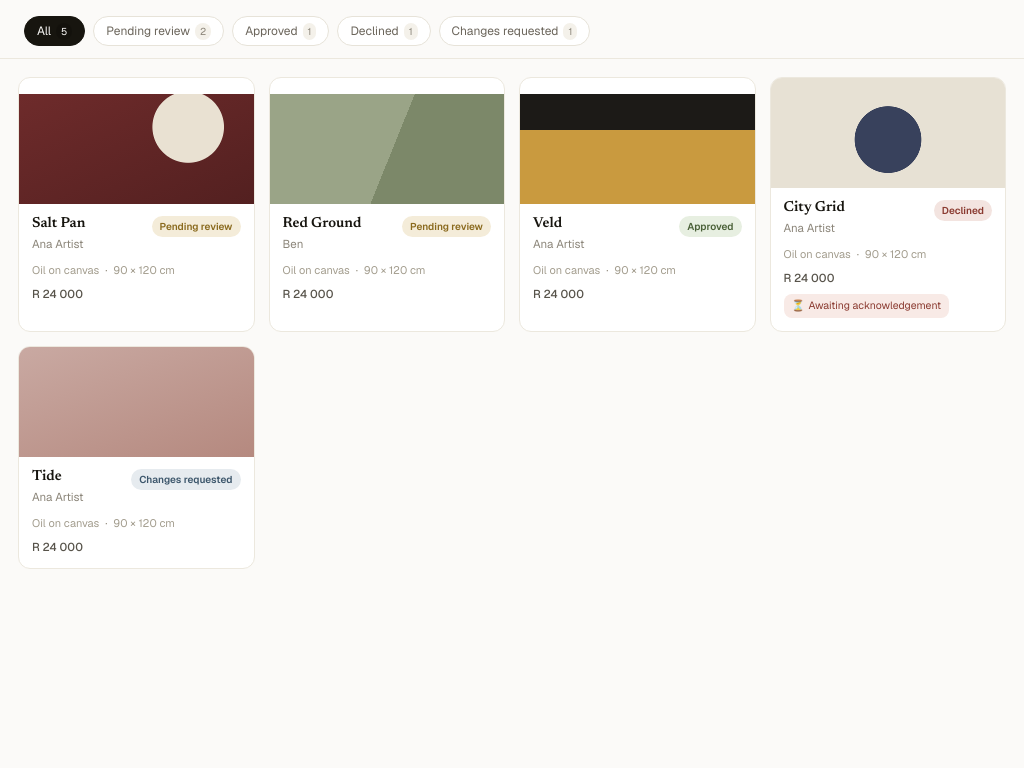
SubmissionsPanel reviewing › approves: saves, confirms, and removes the work from the page because it is catalogued
Click the text "Salt Pan".
click(59, 224)  # box [32,215,85,233]
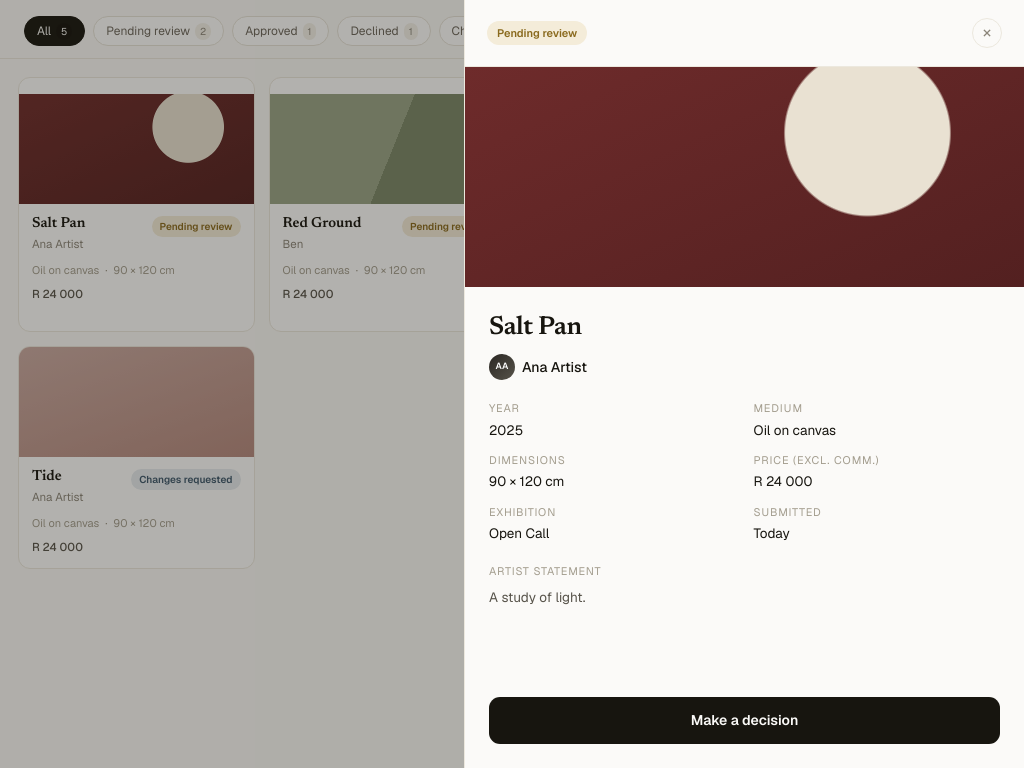
Click the button "Make a decision".
click(744, 720)  # box [489,697,1000,744]
(page scrolled)
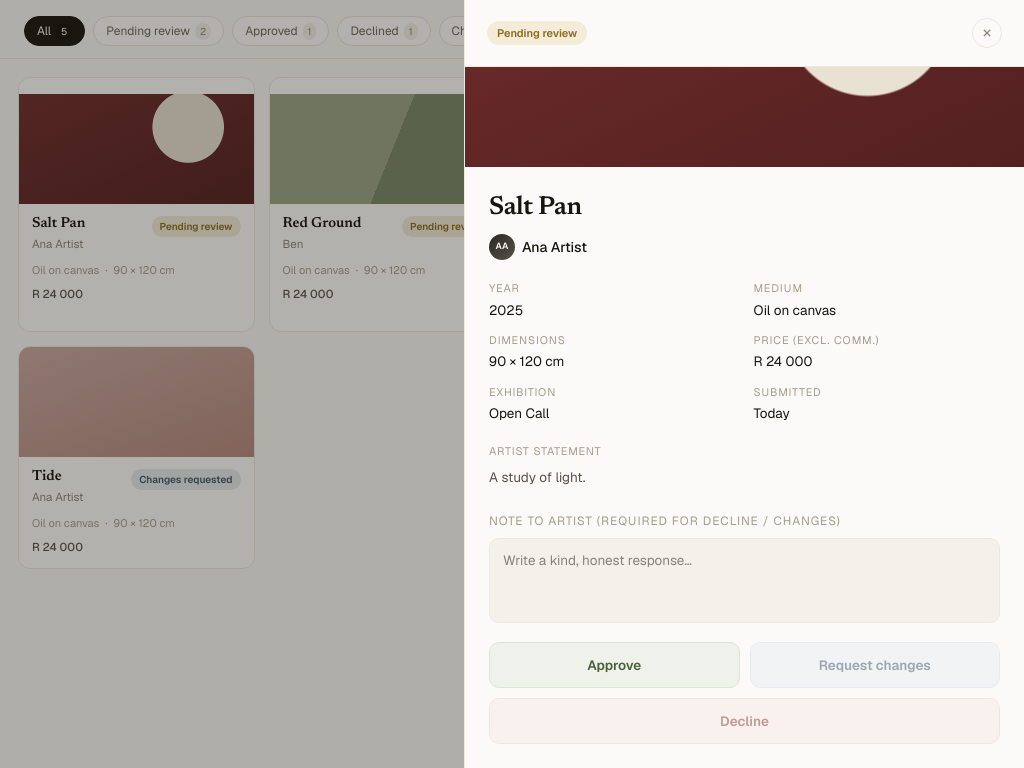
Click the button "Approve".
click(614, 665)  # box [489,642,740,688]
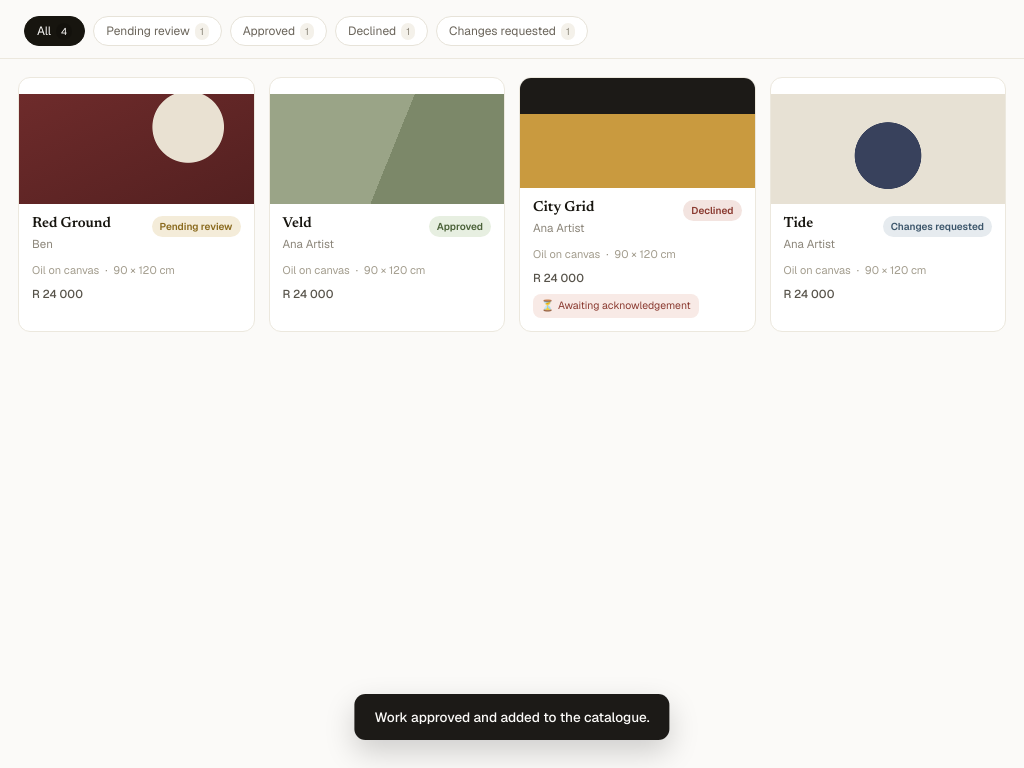
Expected: the text "Work approved and added to the catalogue." is shown, [354,694,670,740]
Expected: the button "All 4" is shown, [24,16,85,46]
Expected: the button "Pending review 1" is shown, [93,16,222,46]
